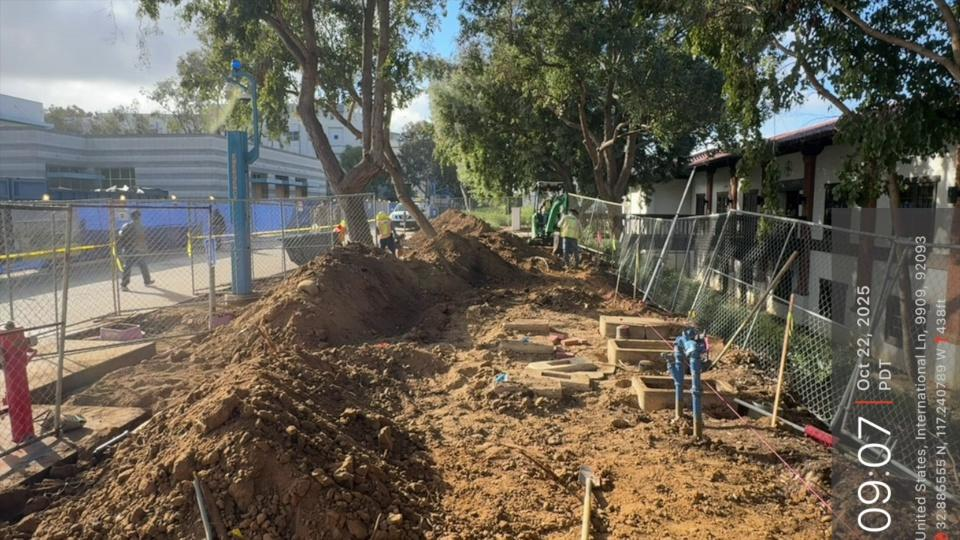Exacavator: (514, 169, 581, 267)
